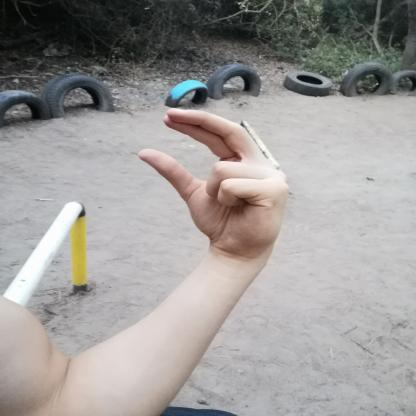DHELL: (131, 100, 300, 264)
